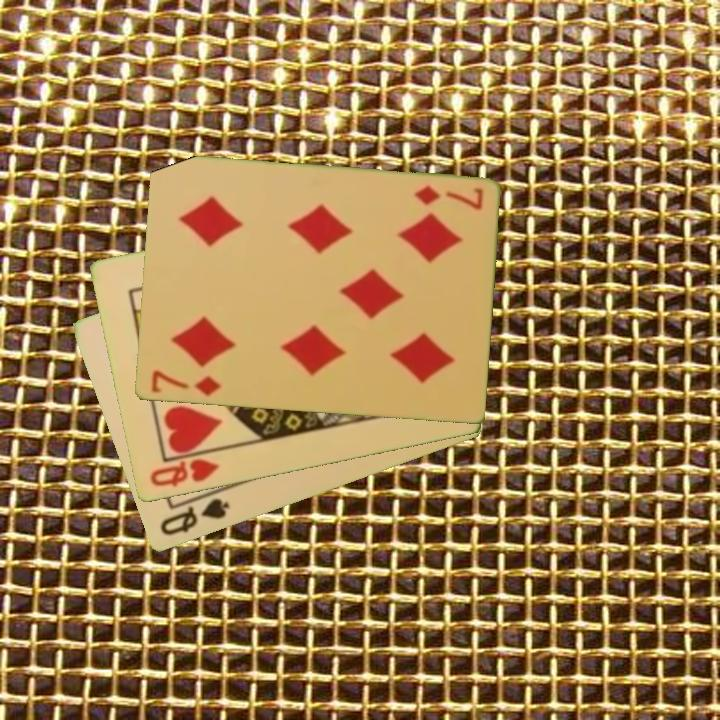7d: (147, 367, 224, 399), (410, 182, 486, 213)
Qh: (146, 448, 224, 490)
Qs: (156, 495, 232, 539)
